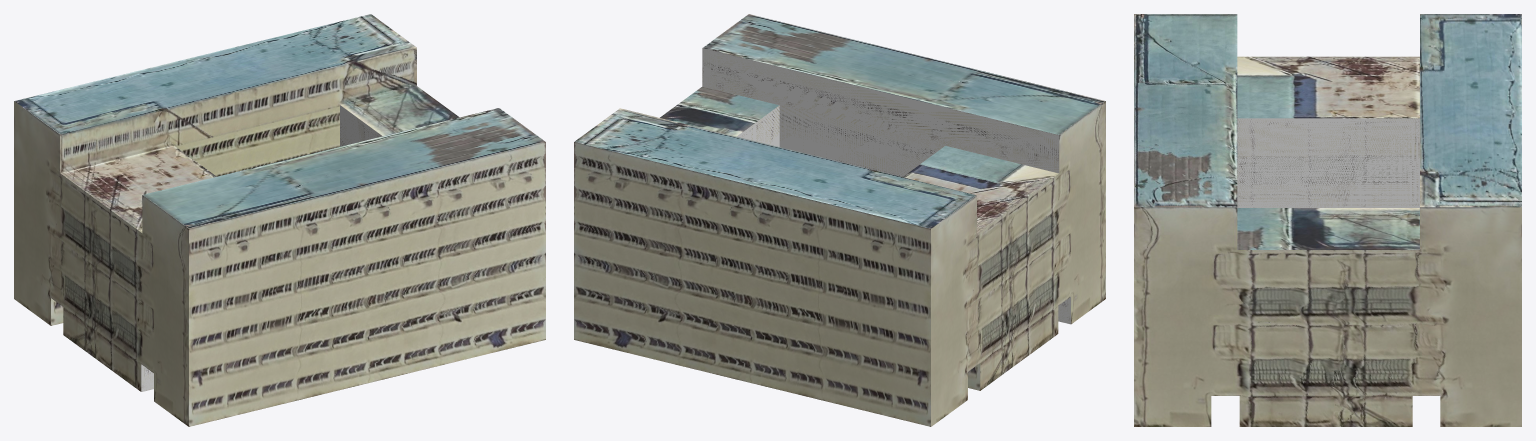
The model's file is Techni_Hilton.dae.
3 views of the same model, side by side, from view 1: azimuth 30°, elevation 25°; view 2: azimuth 150°, elevation 25°; view 3: azimuth 270°, elevation 25° (orthographic). The views are drawn at different scales.
Parts seen in each view (by area): view 1: group_0 (×7); view 2: group_0 (×7); view 3: group_0 (×5).
Boxes of the visible parts, bbox=[...] form: group_0 (×7): bbox=[14, 14, 545, 426]; group_0 (×7): bbox=[574, 14, 1105, 426]; group_0 (×5): bbox=[1134, 14, 1521, 426].
Bounding box in the file's own units: 1276 × 1082 × 676.
Materials: 8 (7 with a texture image).
